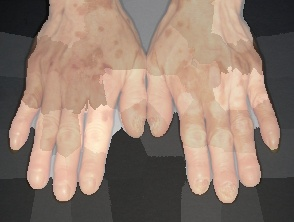vitiligo: (0, 0, 169, 205), (145, 0, 280, 197)
